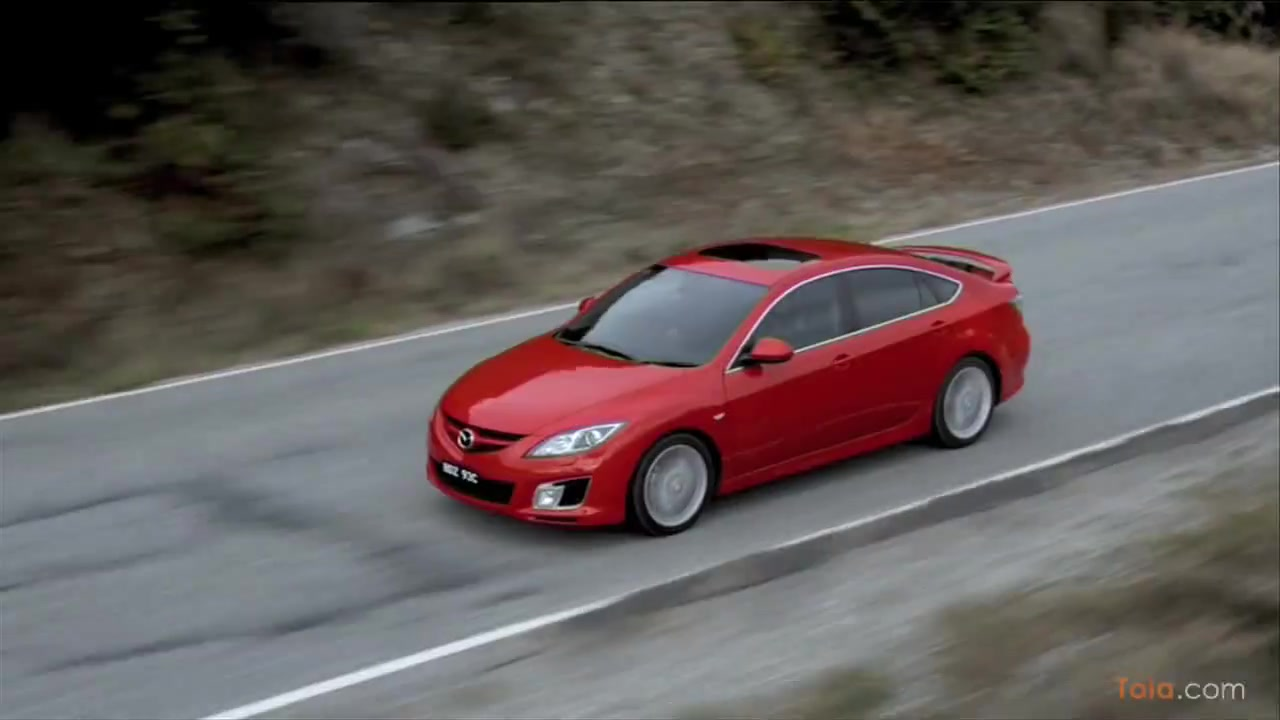car: (422, 232, 1035, 539)
